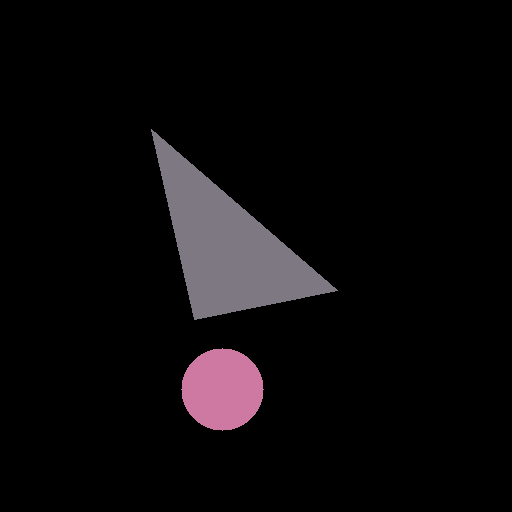circle: (181, 348, 263, 430)
triangle: (151, 129, 337, 319)
